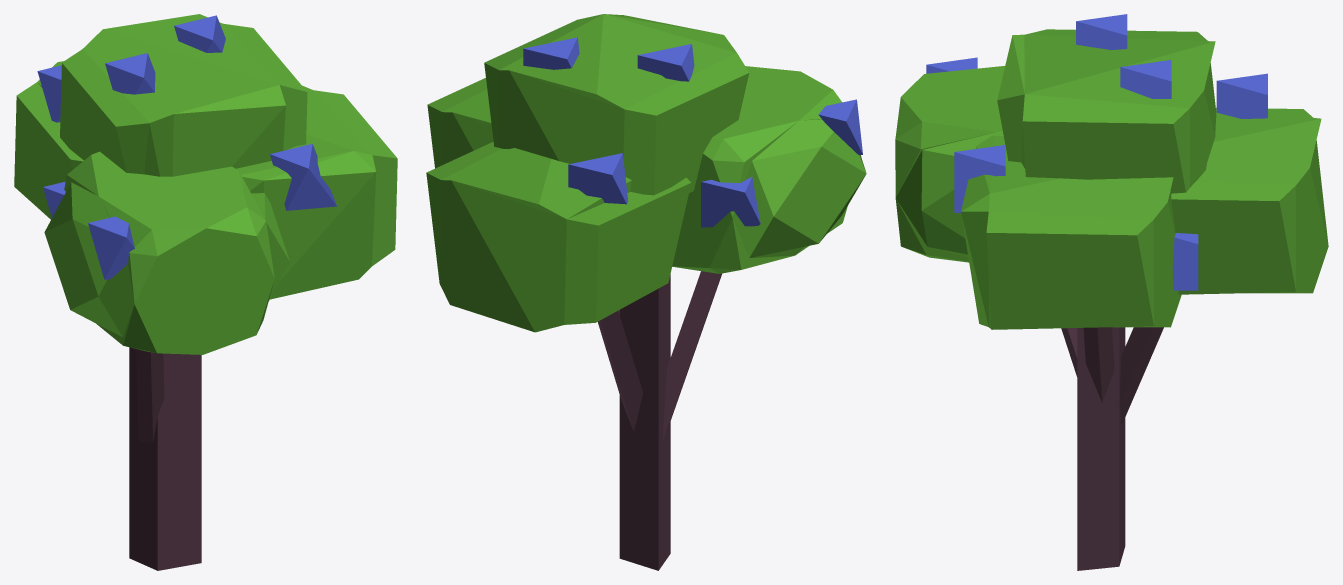
File: ブルーベリー.fbx
3 views of the same model, side by side, from view 1: azimuth 30°, elevation 25°; view 2: azimuth 150°, elevation 25°; view 3: azimuth 270°, elevation 25° (orthographic). The views are drawn at different scales.
Parts seen in each view (by area): view 1: 立方体.005, 立方体.002, 立方体.009; view 2: 立方体.005, 立方体.002, 立方体.009; view 3: 立方体.005, 立方体.002, 立方体.009.
Part boxes in pixels (x1,y1,x2,y2): 立方体.005: (14,14,397,354); 立方体.002: (129,347,201,570); 立方体.009: (37,15,336,279); 立方体.005: (426,14,866,332); 立方体.002: (598,271,721,570); 立方体.009: (523,37,862,227); 立方体.005: (895,29,1328,329); 立方体.002: (1061,327,1163,570); 立方体.009: (926,14,1267,290).
Size of the model in its own units: 364 by 515 by 389.
